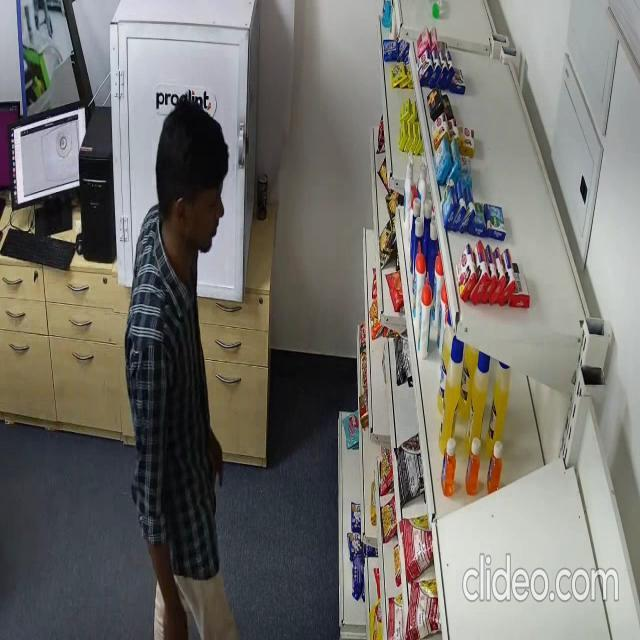normal: (122, 96, 238, 640)
